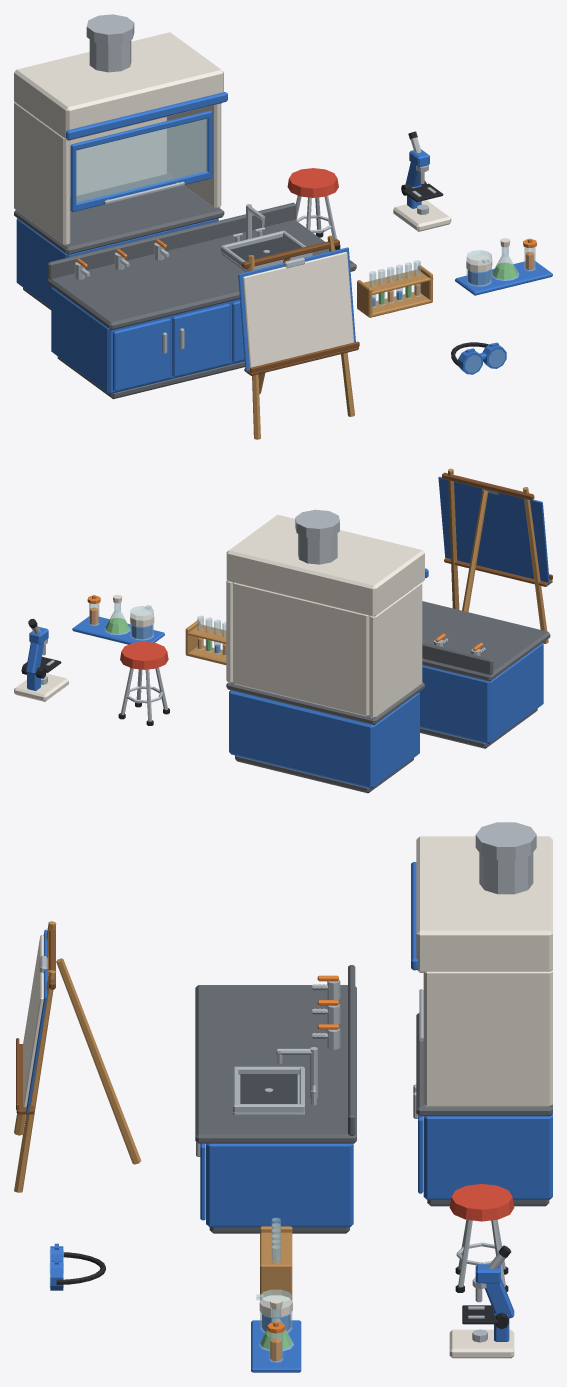
The model's file is school-science-lab-set.glb.
3 renders of one model, top to bottom at view 1: azimuth 30°, elevation 25°; view 2: azimuth 150°, elevation 25°; view 3: azimuth 270°, elevation 25°, orthographic. The views are drawn at different scales.
Parts seen in each view (by area): view 1: FumeHood_Cream, LabBench_StoneDark, Easel_Chart_Cream, LabBench, FumeHood_Sash_Glass, FumeHood_StoneDark, LabBench_PaintBlue, FumeHood_PaintBlue, FumeHood_Sash, FumeHood_Metal, TestTubeRack_Wood, LabBench_Metal (+13 smaller); view 2: FumeHood_Cream, FumeHood_PaintBlue, LabBench_PaintBlue, Easel_Chart_PaintBlue, LabBench_StoneDark, Easel_Chart_Wood, FumeHood_StoneDark, FumeHood_Metal, BeakerSet_Glass, BeakerSet_PaintBlue, Easel_Chart_WoodDark, TestTubeRack_Wood (+6 smaller); view 3: FumeHood_Cream, LabBench_StoneDark, LabBench_PaintBlue, FumeHood_PaintBlue, Easel_Chart_Wood, FumeHood_Metal, LabBench_Metal, FumeHood_StoneDark, TestTubeRack_Wood, BeakerSet_PaintBlue, LabStool_Seat, Easel_Chart_Cream (+9 smaller).
Boxes of the visible parts, x1=… form: FumeHood_Cream: x1=14, y1=32, x2=223, y2=245; LabBench_StoneDark: x1=47, y1=202, x2=356, y2=399; Easel_Chart_Cream: x1=243, y1=252, x2=353, y2=368; LabBench: x1=113, y1=300, x2=244, y2=391; FumeHood_Sash_Glass: x1=76, y1=118, x2=207, y2=202; FumeHood_StoneDark: x1=14, y1=173, x2=224, y2=309; LabBench_PaintBlue: x1=51, y1=287, x2=244, y2=394; FumeHood_PaintBlue: x1=16, y1=92, x2=227, y2=307; FumeHood_Sash: x1=70, y1=110, x2=212, y2=212; FumeHood_Metal: x1=86, y1=14, x2=134, y2=72; TestTubeRack_Wood: x1=357, y1=265, x2=433, y2=317; LabBench_Metal: x1=75, y1=204, x2=312, y2=279; FumeHood_Cream: x1=226, y1=514, x2=424, y2=718; FumeHood_PaintBlue: x1=229, y1=568, x2=428, y2=788; LabBench_PaintBlue: x1=419, y1=643, x2=543, y2=743; Easel_Chart_PaintBlue: x1=438, y1=476, x2=549, y2=584; LabBench_StoneDark: x1=420, y1=601, x2=550, y2=748; Easel_Chart_Wood: x1=448, y1=468, x2=548, y2=643; FumeHood_StoneDark: x1=226, y1=682, x2=424, y2=793; FumeHood_Metal: x1=295, y1=509, x2=339, y2=564; BeakerSet_Glass: x1=89, y1=603, x2=153, y2=640; BeakerSet_PaintBlue: x1=72, y1=616, x2=164, y2=644; Easel_Chart_WoodDark: x1=442, y1=472, x2=552, y2=586; TestTubeRack_Wood: x1=185, y1=620, x2=226, y2=665; FumeHood_Cream: x1=416, y1=836, x2=552, y2=1107; LabBench_StoneDark: x1=195, y1=965, x2=356, y2=1233; LabBench_PaintBlue: x1=206, y1=1143, x2=353, y2=1227; FumeHood_PaintBlue: x1=411, y1=862, x2=552, y2=1199; Easel_Chart_Wood: x1=14, y1=921, x2=141, y2=1192; FumeHood_Metal: x1=475, y1=822, x2=536, y2=894; LabBench_Metal: x1=233, y1=980, x2=340, y2=1115; FumeHood_StoneDark: x1=416, y1=1013, x2=552, y2=1206; TestTubeRack_Wood: x1=260, y1=1226, x2=292, y2=1299; BeakerSet_PaintBlue: x1=251, y1=1314, x2=301, y2=1372; LabStool_Seat: x1=449, y1=1184, x2=514, y2=1221; Easel_Chart_Cream: x1=23, y1=935, x2=43, y2=1107.
Bounding box in the file's own units: 18.8 × 10.1 × 15.
